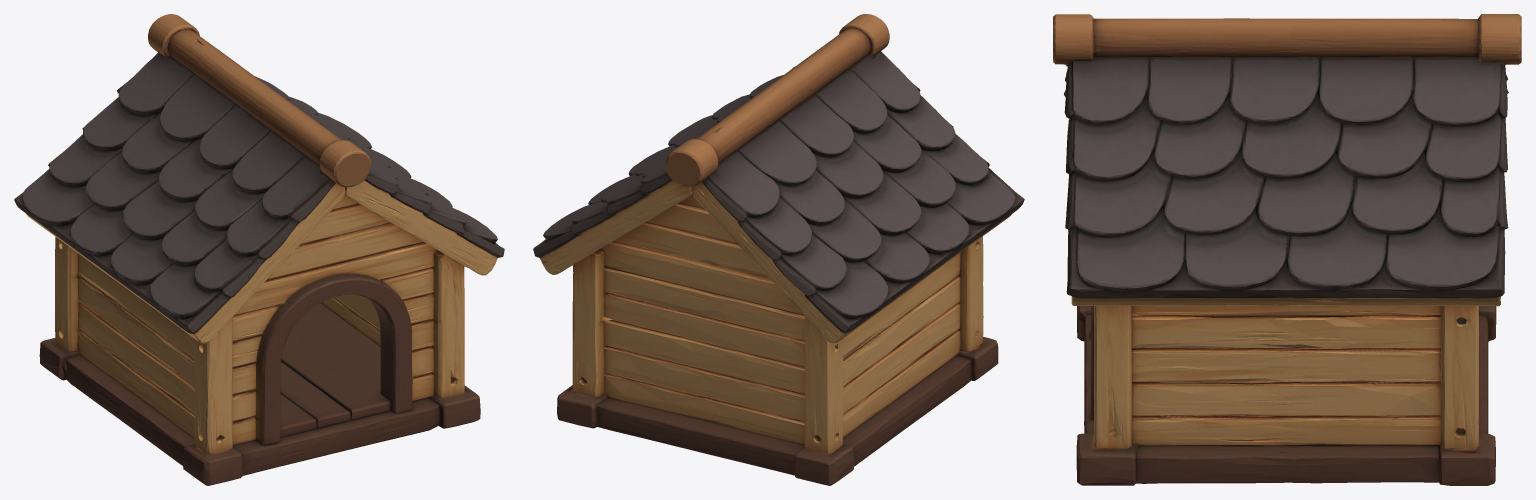
File: DOM_budka_5__base.glb
3 renders of one model, left to right at view 1: azimuth 30°, elevation 25°; view 2: azimuth 150°, elevation 25°; view 3: azimuth 270°, elevation 25°, orthographic. The views are drawn at different scales.
Parts seen in each view (by area): view 1: tripo_node_68404dc4-c458-4060-b67f-13d73b854763; view 2: tripo_node_68404dc4-c458-4060-b67f-13d73b854763; view 3: tripo_node_68404dc4-c458-4060-b67f-13d73b854763.
Boxes of the visible parts, bbox=[...] form: tripo_node_68404dc4-c458-4060-b67f-13d73b854763: bbox=[14, 14, 504, 485]; tripo_node_68404dc4-c458-4060-b67f-13d73b854763: bbox=[533, 14, 1024, 485]; tripo_node_68404dc4-c458-4060-b67f-13d73b854763: bbox=[1053, 14, 1521, 485].
Bounding box in the file's own units: 0.9793 × 0.8913 × 0.9776.
1 material, 1 textured.
